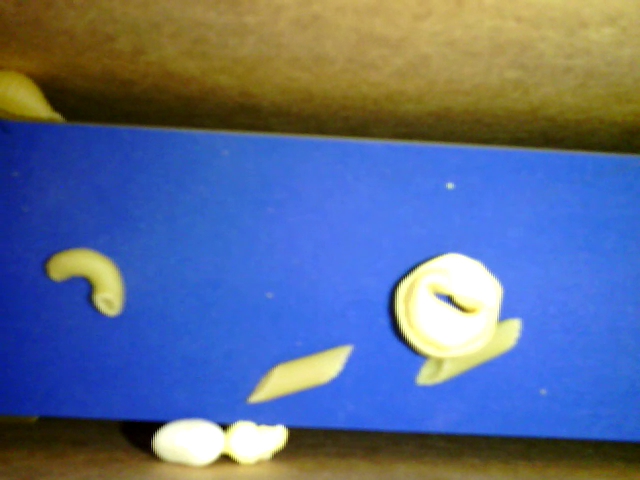elbow: (44, 247, 125, 315)
penne: (416, 317, 522, 383), (244, 344, 354, 404)
shell: (1, 69, 67, 122)
tortellini: (394, 249, 506, 358)
